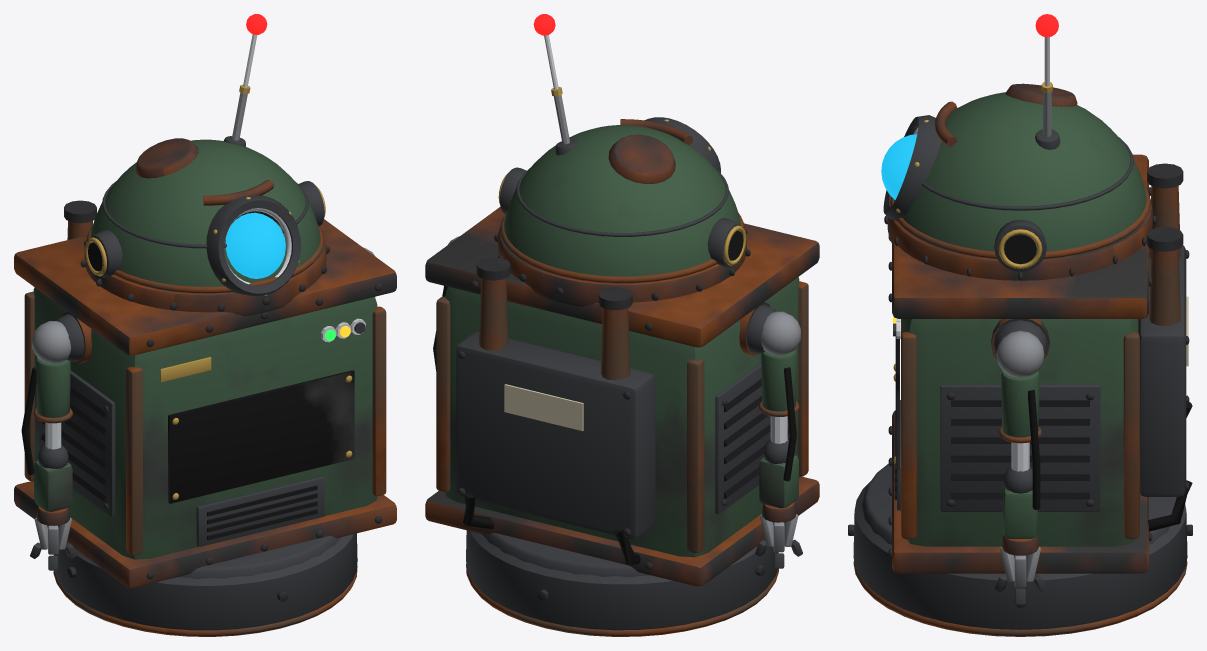
The model's file is rob04.glb.
The picture shows the model from 3 angles, left to right: view 1: azimuth 30°, elevation 25°; view 2: azimuth 150°, elevation 25°; view 3: azimuth 270°, elevation 25°; orthographic projection. The views are drawn at different scales.
Visible parts, largest first — view 1: chassis, body_darkMetal_m, body_rustyIron_m, namePlate, dome, body_rust_m, head_rustyIron_m, head_darkMetal_m, body_blackPlastic_m, armL_paintGreen_m, eye, armL_steel_m (+7 smaller); view 2: body_darkMetal_m, body_rustyIron_m, dome, chassis, body_rust_m, head_rustyIron_m, head_darkMetal_m, armL_paintGreen_m, armL_steel_m, batteryLabel, body_iron_m, body_blackPlastic_m (+5 smaller); view 3: body_darkMetal_m, dome, chassis, body_rustyIron_m, body_rust_m, head_rustyIron_m, head_darkMetal_m, body_blackPlastic_m, armR_paintGreen_m, armR_steel_m, body_iron_m, domeRust (+9 smaller).
Part boxes in pixels (x1,y1,x2,y2): chassis: [33, 287, 377, 559]; body_darkMetal_m: [39, 314, 365, 630]; body_rustyIron_m: [14, 219, 396, 587]; namePlate: [168, 370, 354, 503]; dome: [90, 139, 320, 286]; body_rust_m: [24, 221, 386, 636]; head_rustyIron_m: [84, 138, 326, 316]; head_darkMetal_m: [89, 136, 324, 296]; body_blackPlastic_m: [40, 386, 317, 540]; armL_paintGreen_m: [34, 357, 72, 511]; eye: [225, 212, 285, 278]; armL_steel_m: [32, 321, 71, 554]; body_darkMetal_m: [456, 304, 789, 630]; body_rustyIron_m: [425, 207, 819, 586]; dome: [504, 125, 740, 276]; chassis: [445, 277, 799, 557]; body_rust_m: [436, 278, 808, 636]; head_rustyIron_m: [498, 119, 746, 306]; head_darkMetal_m: [500, 117, 740, 267]; armL_paintGreen_m: [759, 349, 798, 508]; armL_steel_m: [760, 311, 800, 552]; batteryLabel: [504, 384, 583, 431]; body_iron_m: [457, 257, 764, 600]; body_blackPlastic_m: [724, 379, 789, 498]; body_darkMetal_m: [853, 245, 1187, 629]; dome: [894, 92, 1146, 251]; chassis: [902, 319, 1138, 546]; body_rustyIron_m: [892, 154, 1148, 573]; body_rust_m: [853, 185, 1187, 636]; head_rustyIron_m: [887, 83, 1153, 280]; head_darkMetal_m: [883, 115, 1133, 271]; body_blackPlastic_m: [894, 400, 1089, 499]; armR_paintGreen_m: [1001, 371, 1039, 538]; armR_steel_m: [996, 330, 1044, 587]; body_iron_m: [848, 163, 1192, 607]; domeRust: [890, 185, 1150, 259].
Bounding box in the file's own units: 0.8321 × 1.22 × 0.6444.
17 materials, 9 textured.
